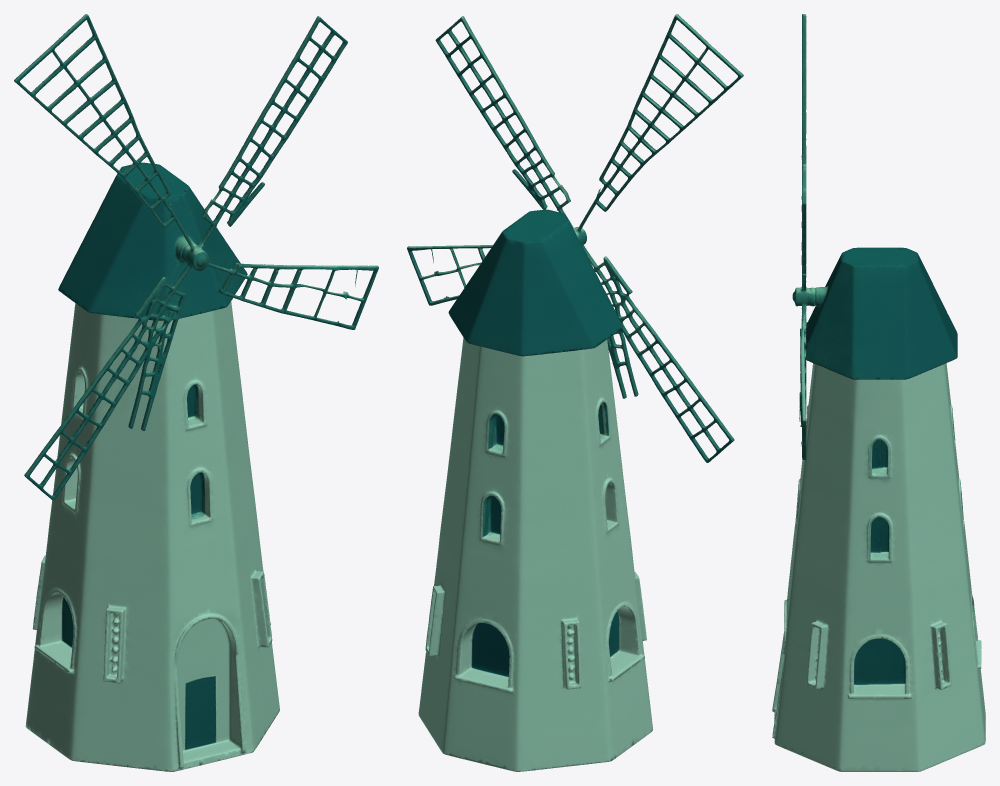
The model's file is Style_Windmill.glb.
3 views of the same model, side by side, from view 1: azimuth 30°, elevation 25°; view 2: azimuth 150°, elevation 25°; view 3: azimuth 270°, elevation 25° (orthographic). The views are drawn at different scales.
Size of the model in its own units: 0.9481 by 1.9 by 0.5508.
Materials: 1 (1 with a texture image).
